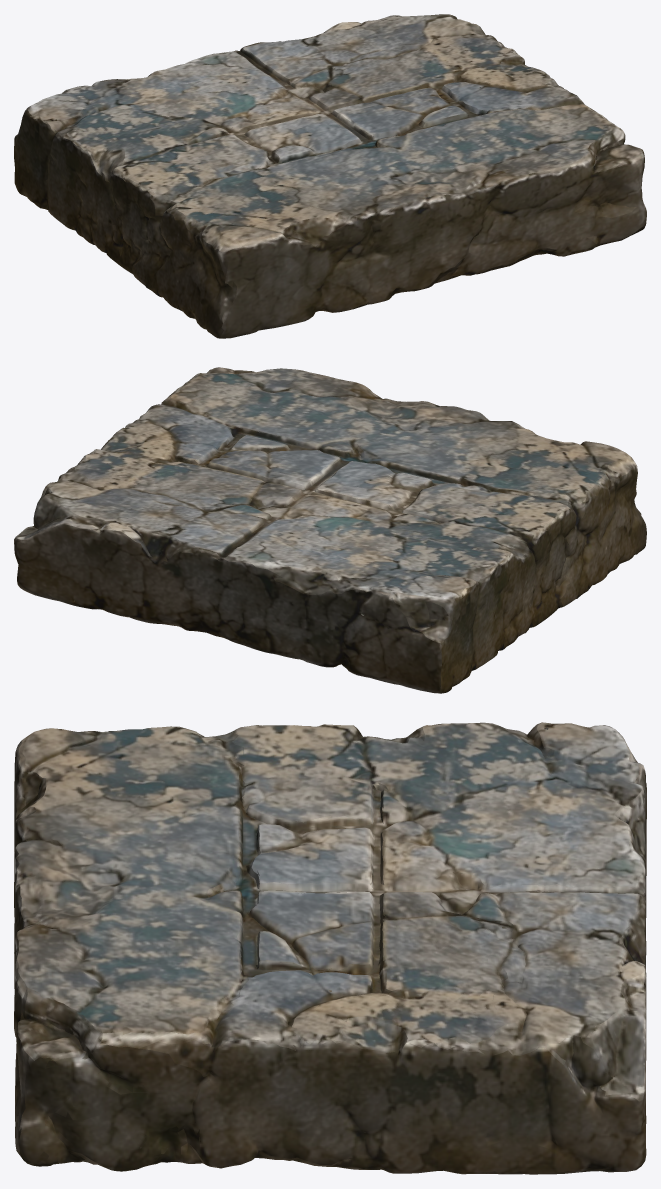
Rendered from solitary-inscribed-stone.glb.
3 views of the same model, one above another, from view 1: azimuth 30°, elevation 25°; view 2: azimuth 150°, elevation 25°; view 3: azimuth 270°, elevation 25° (orthographic). The views are drawn at different scales.
Visible parts, largest first — view 1: 刻痕松动石板; view 2: 刻痕松动石板; view 3: 刻痕松动石板.
Part boxes in pixels (x1,y1,x2,y2): 刻痕松动石板: (14,14,646,338); 刻痕松动石板: (14,367,646,693); 刻痕松动石板: (14,722,646,1174).
Bounding box in the file's own units: 1.2 × 0.25 × 1.
Materials: 1 (1 with a texture image).
